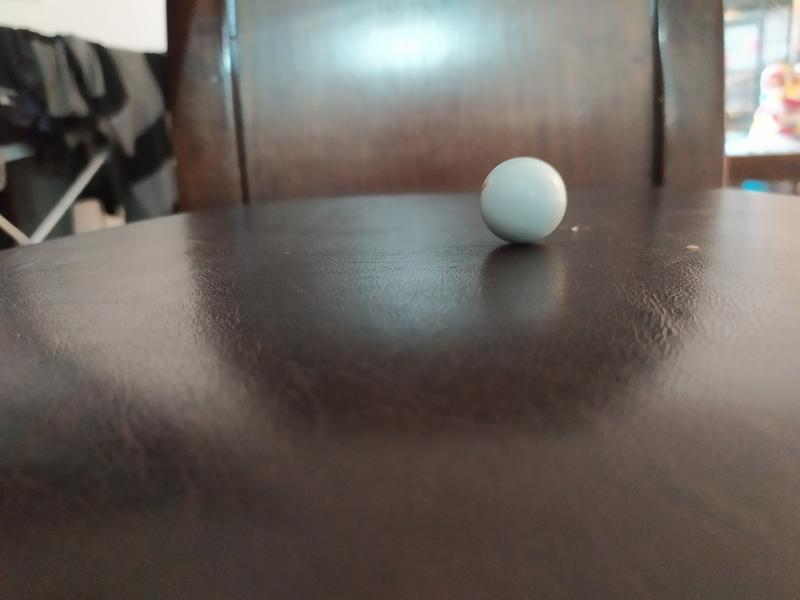Warning: (477, 155, 571, 249)
